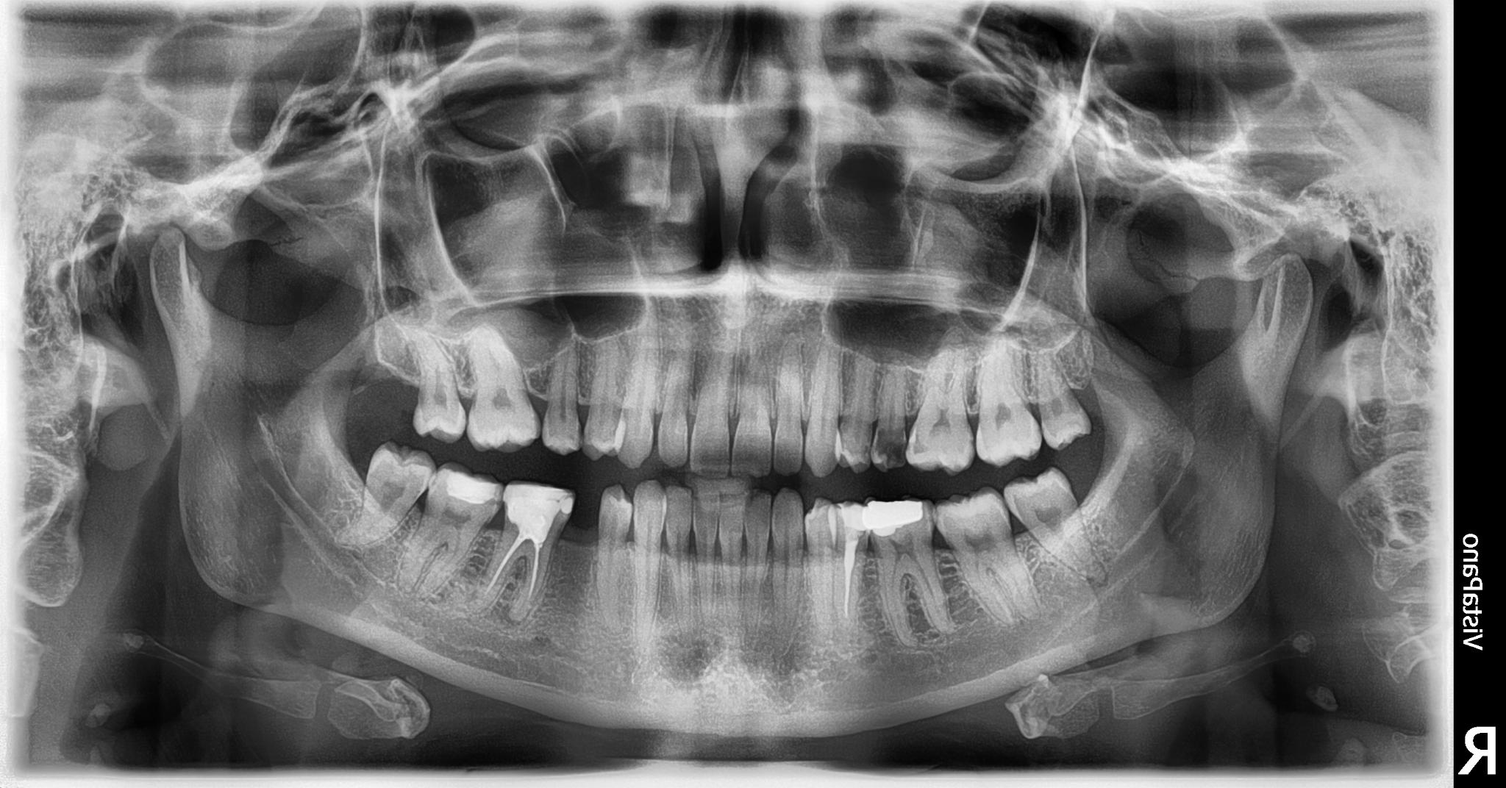Premolars: (486, 244, 1460, 595), (452, 252, 1369, 620), (520, 230, 1506, 572), (448, 170, 1306, 508), (275, 301, 856, 788), (292, 251, 878, 606), (288, 249, 727, 701)
